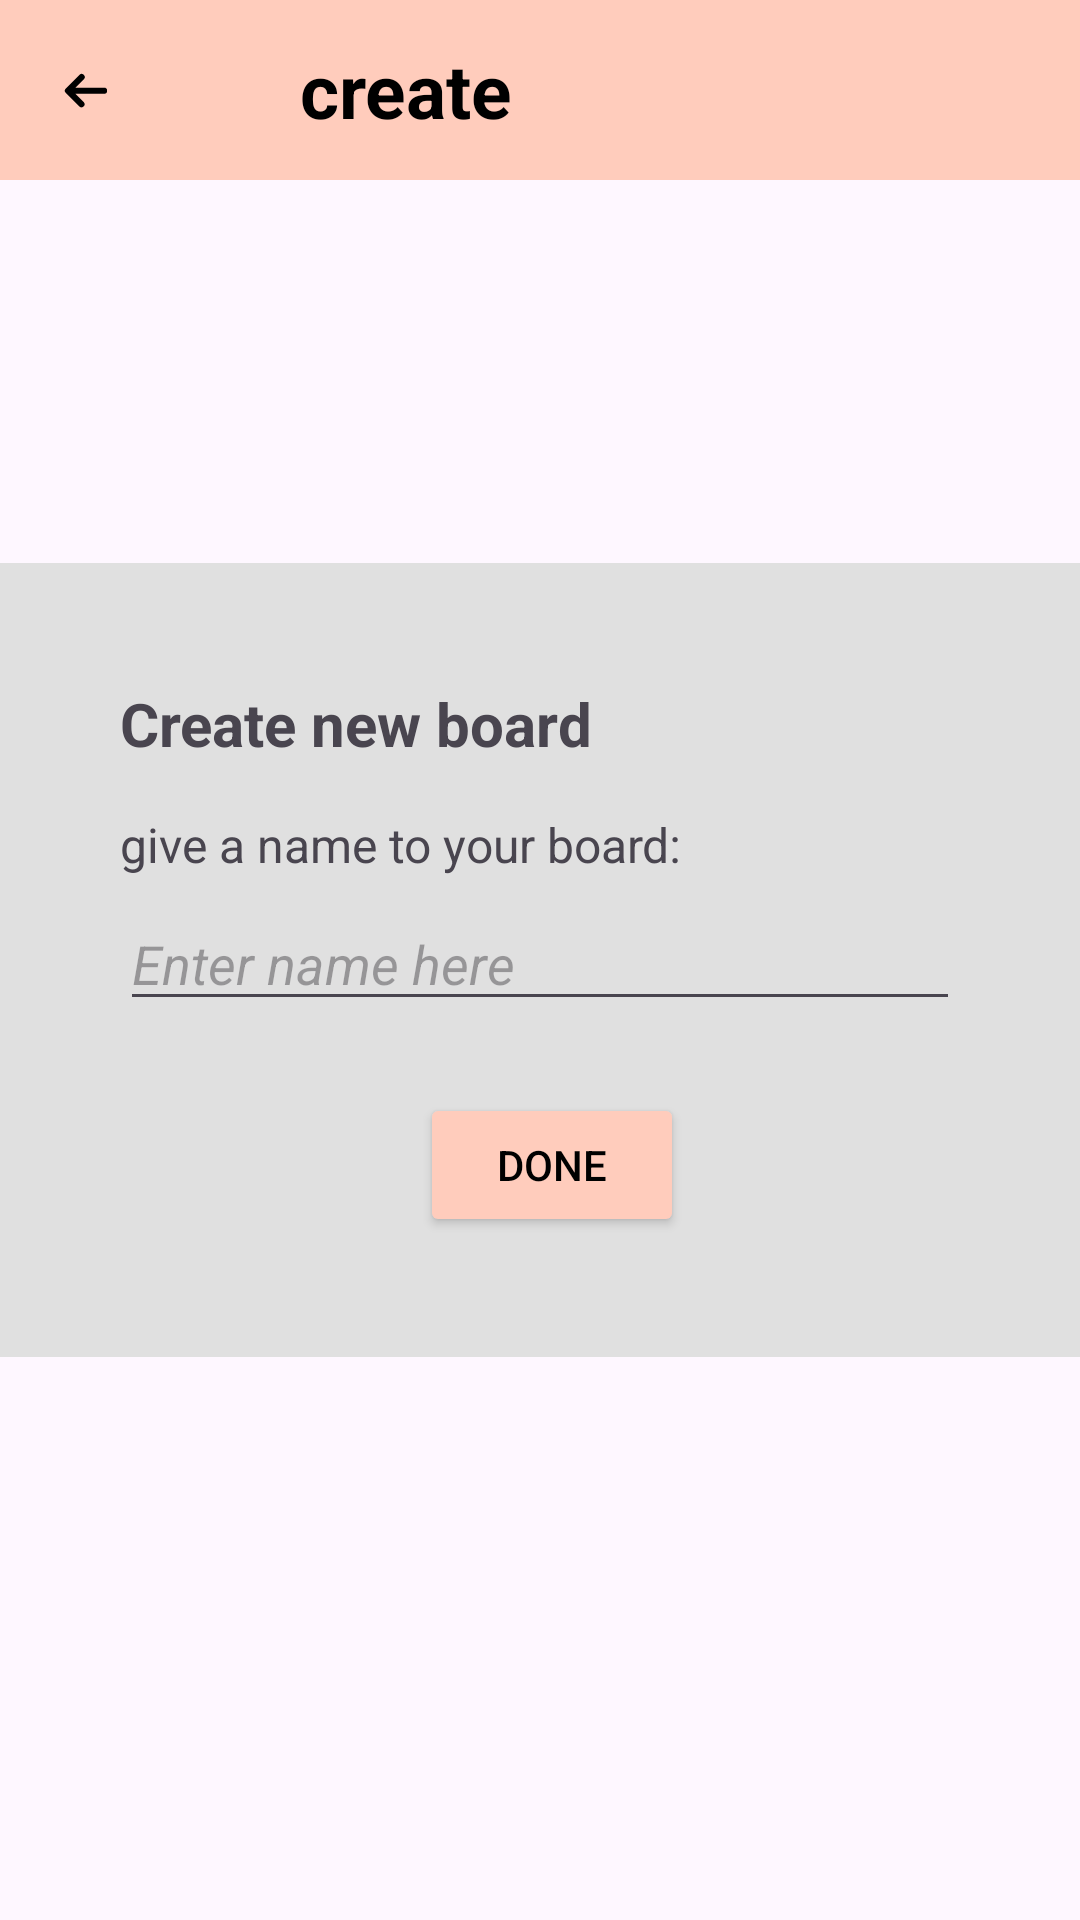

Where to tap for icons on this 1080 x 1920 app screen, as (x,y):
arrow left: (85,90)
